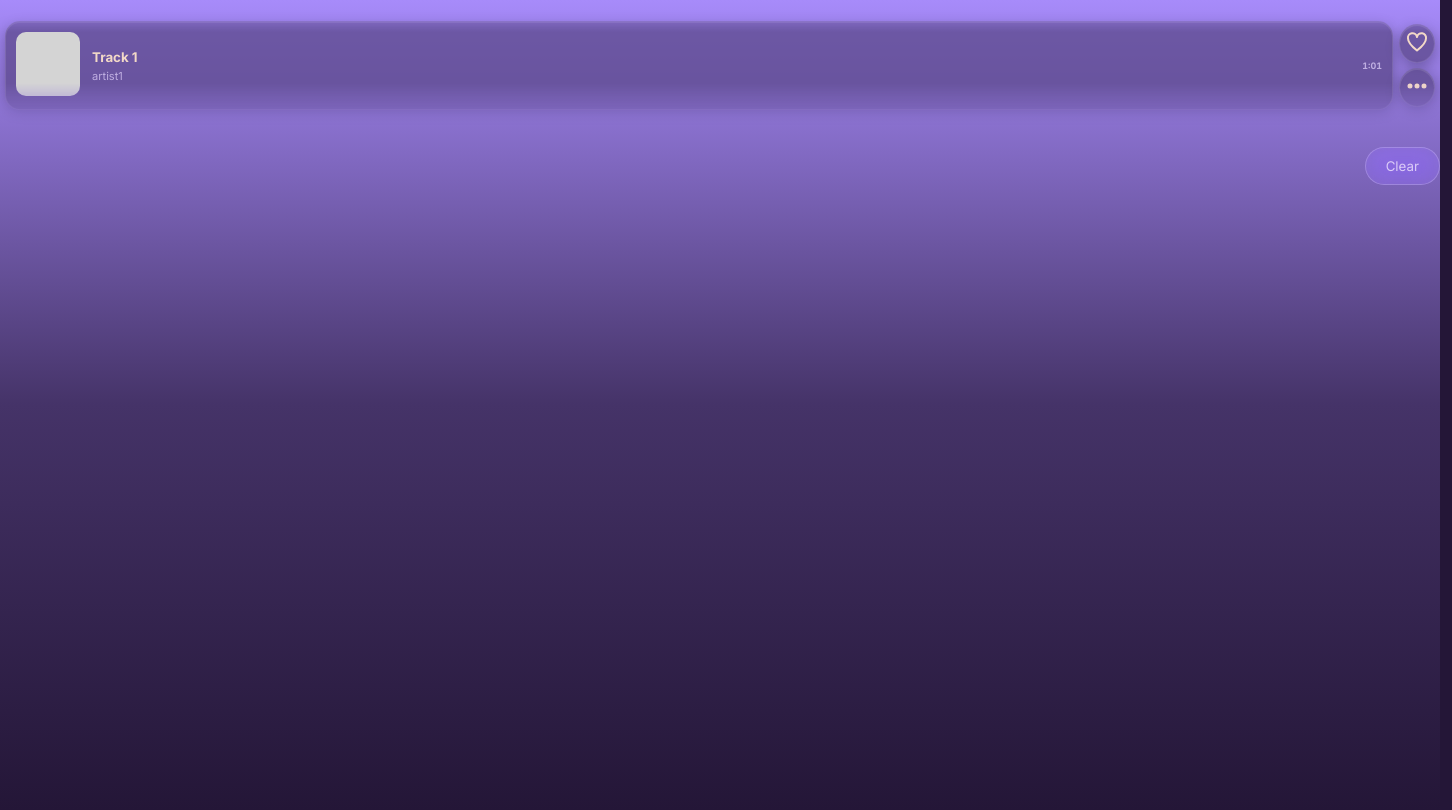
Scenario: RecentsList › rows have a favorite button and a more actions menu with a remove option
Check: the button named "Add to Favorites" is shown, box [1399,24,1435,63]
Click the button named "More actions for Track 1".
click(1417, 88)  # box [1399,68,1435,107]
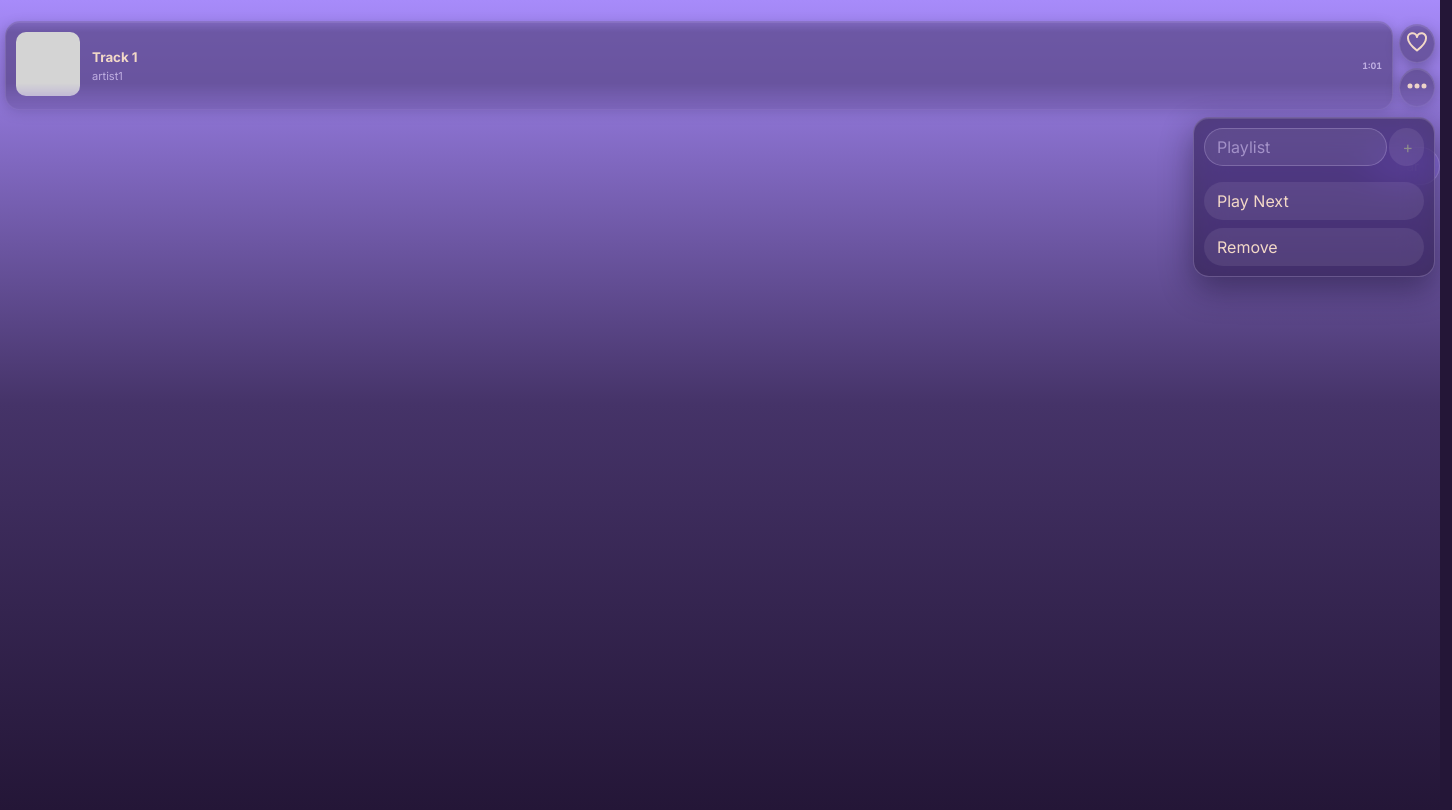
Check: the button "Remove" is shown, box [1204,228,1424,266]
